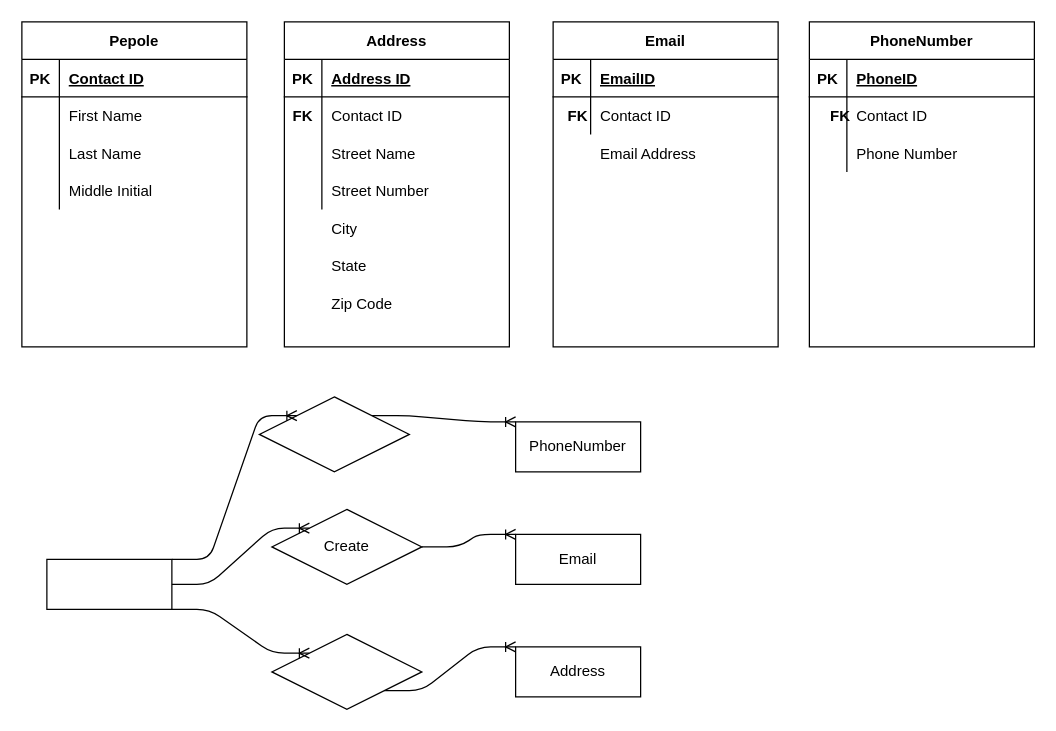
This 1056x731 diagram has some shape labels left out. The centre of each missing label's shape, as x and y in pixels:
"Obtain" belongs at (333,434).
"People" belongs at (109,583).
"Purchase" belongs at (346,671).
